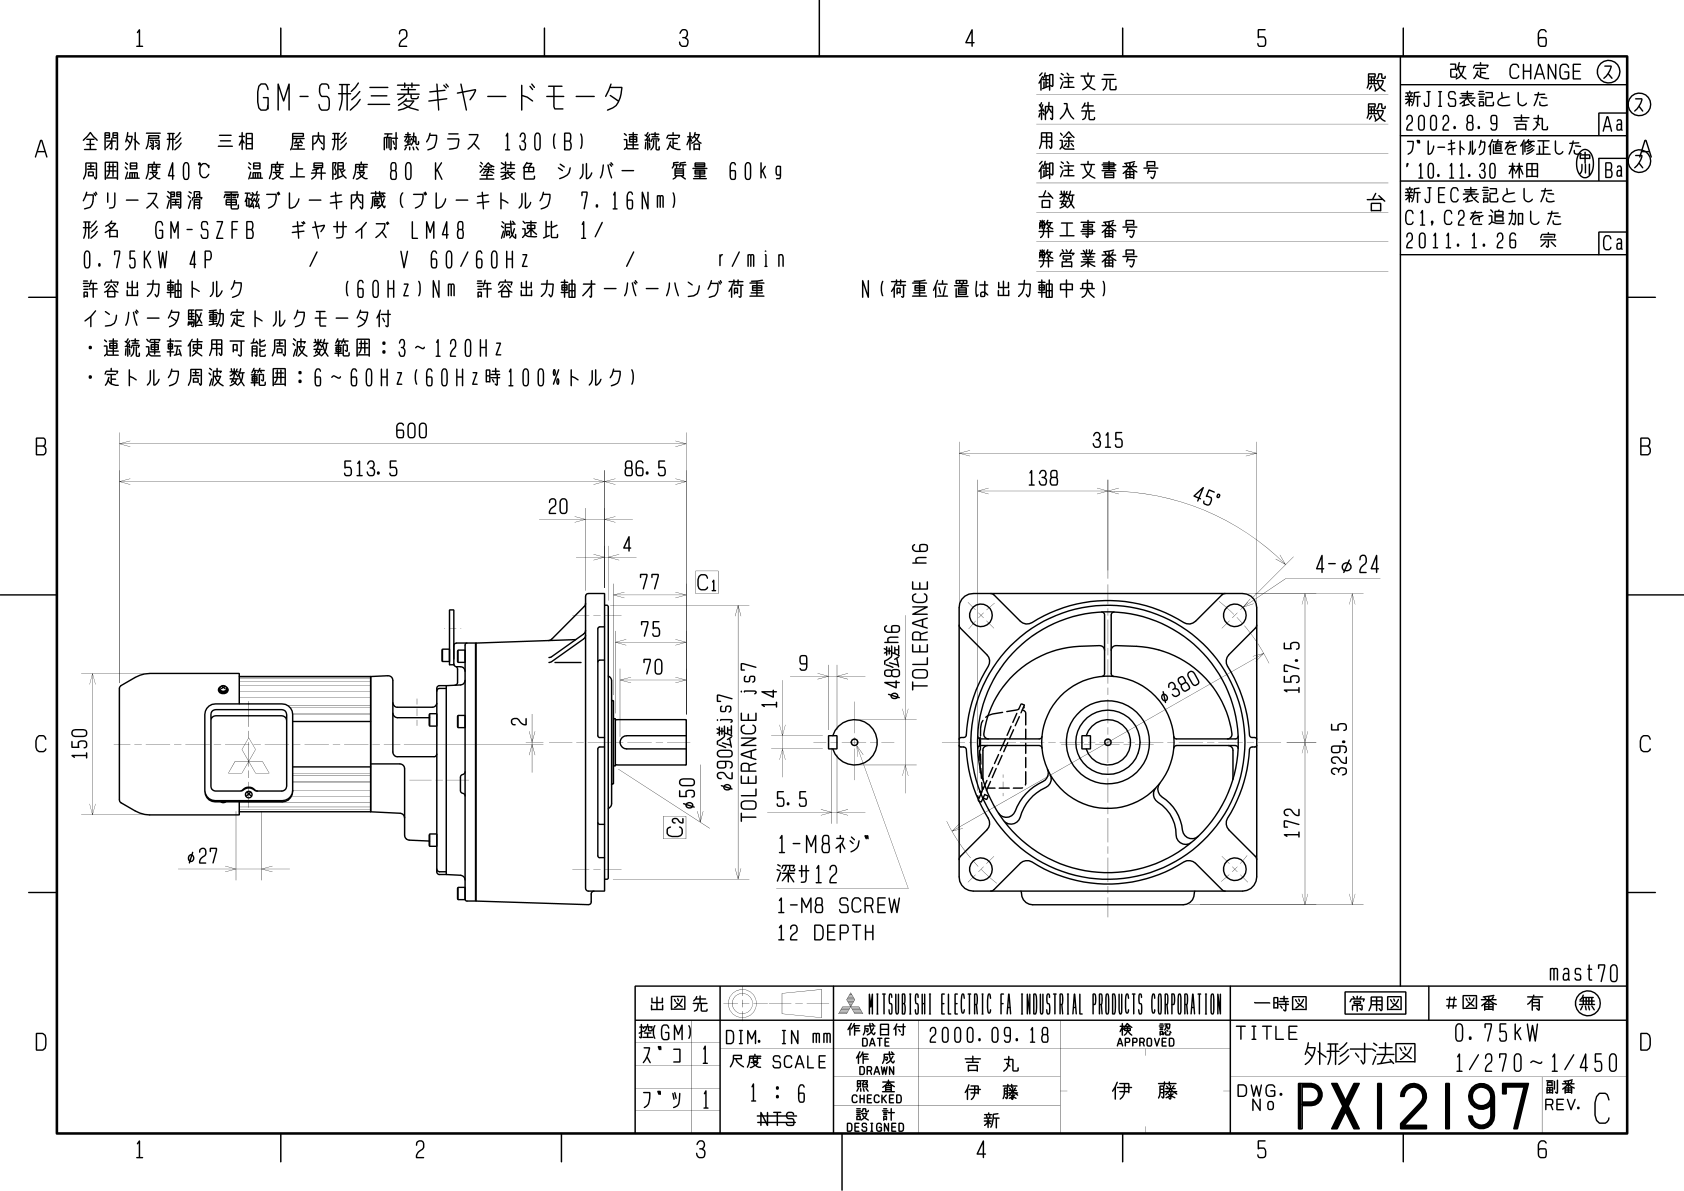GM_S_インバタ屋内＿三相_フランジ: (61, 396, 1393, 963)
